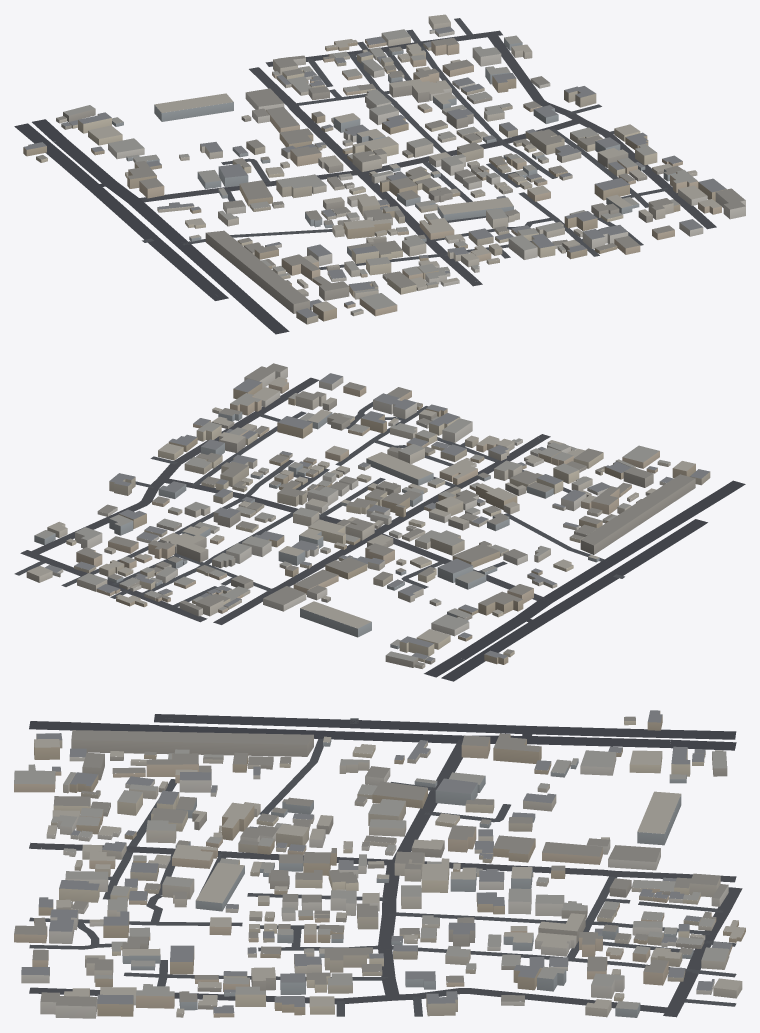
3 views of the same model, one above another, from view 1: azimuth 30°, elevation 25°; view 2: azimuth 150°, elevation 25°; view 3: azimuth 270°, elevation 25° (orthographic). The views are drawn at different scales.
Parts seen in each view (by area): view 1: buildings_roofs, buildings_walls, roads; view 2: buildings_roofs, buildings_walls, roads; view 3: buildings_roofs, buildings_walls, roads.
Boxes of the visible parts, bbox=[...] form: buildings_roofs: bbox=[23, 14, 745, 317]; buildings_walls: bbox=[23, 17, 745, 324]; roads: bbox=[14, 18, 716, 334]; buildings_roofs: bbox=[27, 363, 709, 665]; buildings_walls: bbox=[26, 367, 710, 668]; roads: bbox=[14, 377, 745, 681]; buildings_roofs: bbox=[14, 710, 745, 1013]; buildings_walls: bbox=[14, 711, 745, 1018]; roads: bbox=[29, 714, 742, 1017].
Bounding box in the file's own units: 510 × 9.62 × 518.
